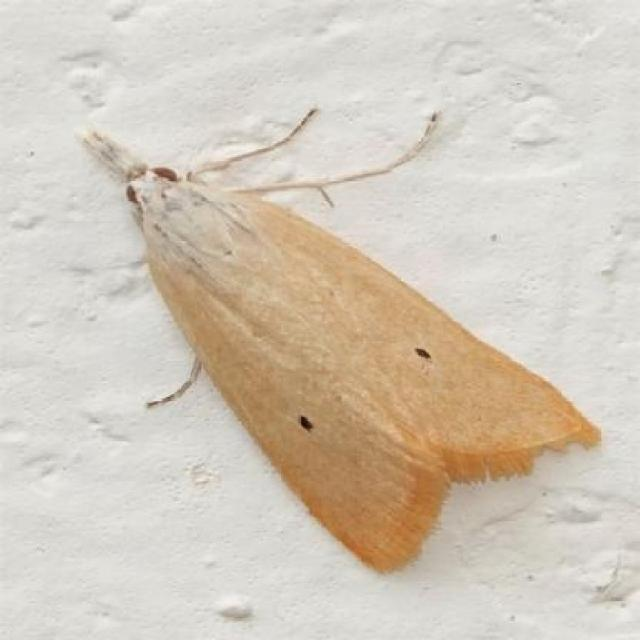stem-borer: (74, 104, 603, 578)
